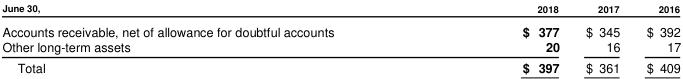table: (1, 0, 680, 75)
table column: (1, 0, 427, 75), (427, 0, 571, 75), (571, 0, 632, 75), (632, 0, 680, 75)
table column header: (1, 0, 680, 18)
table row: (1, 18, 680, 38), (1, 56, 680, 75), (1, 0, 680, 18), (1, 38, 680, 56)
